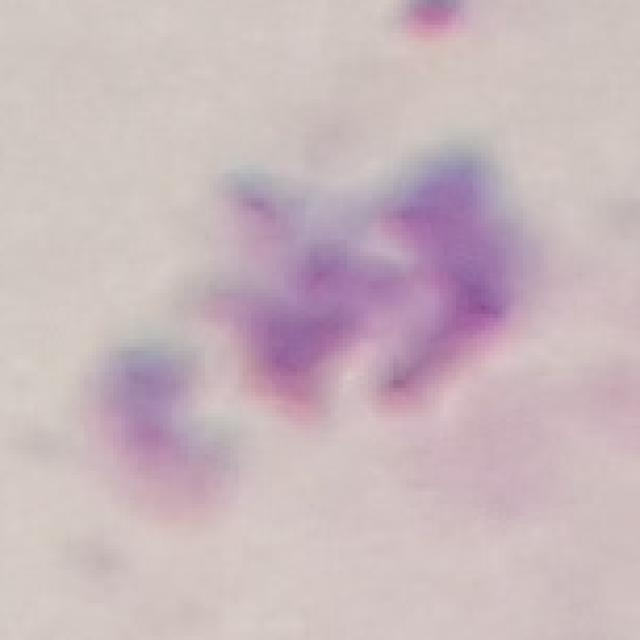non-sperm: (116, 132, 544, 482)
